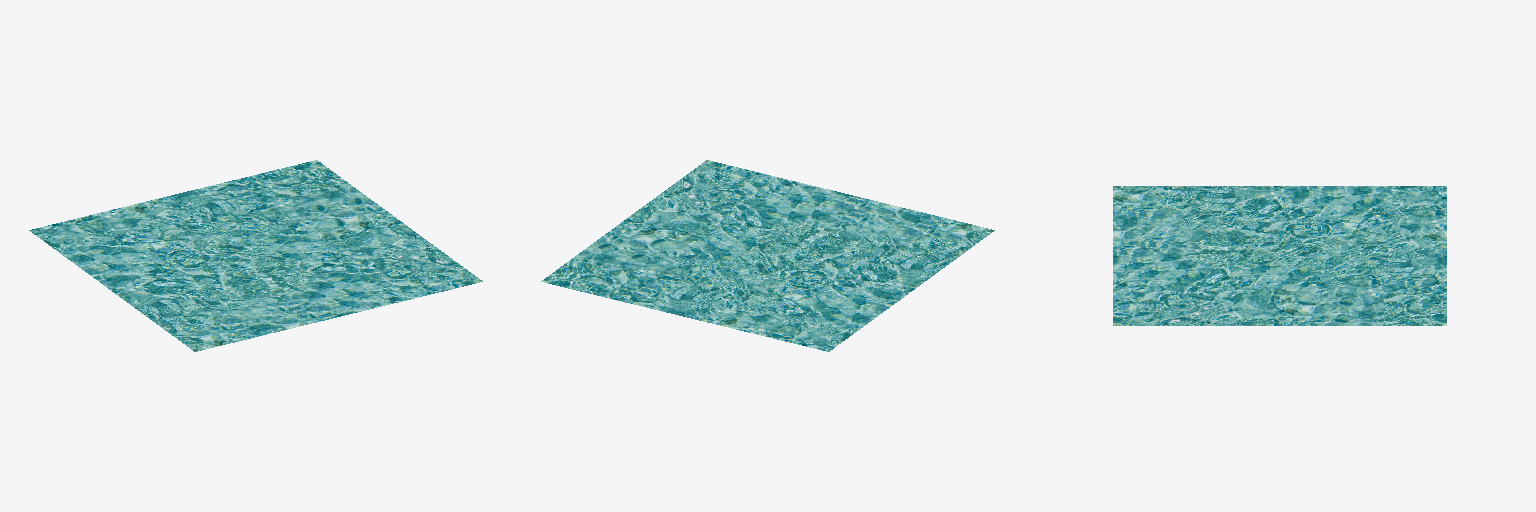
3 views of the same model, side by side, from view 1: azimuth 30°, elevation 25°; view 2: azimuth 150°, elevation 25°; view 3: azimuth 270°, elevation 25° (orthographic).
Visible parts, largest first — view 1: Plane; view 2: Plane; view 3: Plane.
Boxes of the visible parts, x1,y1,x2,y2 form: Plane: [29, 160, 482, 351]; Plane: [541, 160, 994, 351]; Plane: [1113, 186, 1446, 325].
Bounding box in the file's own units: 9.49 × 0 × 9.49.
1 materials, 1 textured.